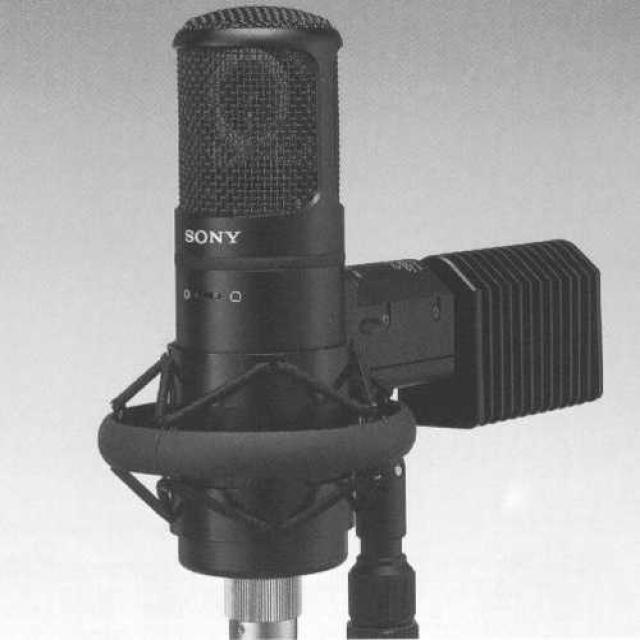microphone: (157, 9, 366, 584)
